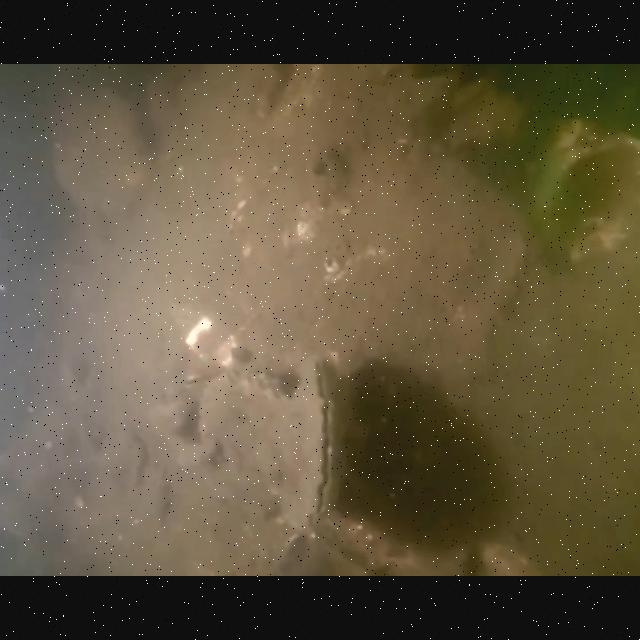Oyster-Open: (259, 358, 349, 538), (197, 369, 295, 517)
